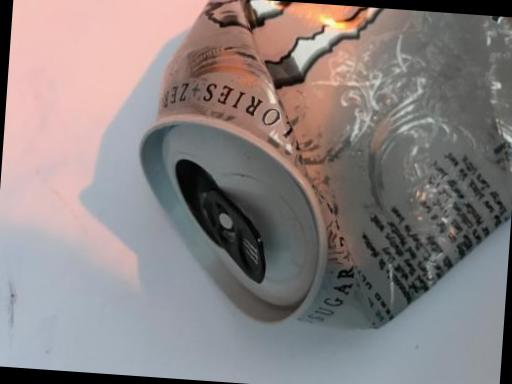metal: (106, 0, 512, 355)
